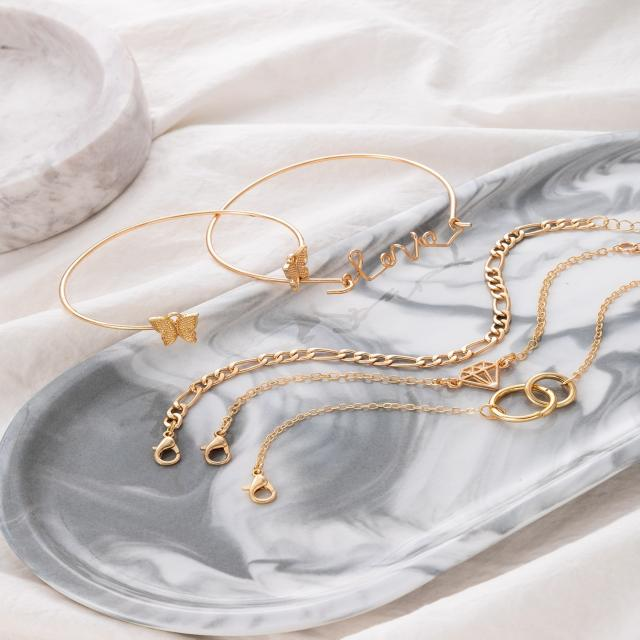bracelet: (16, 65, 640, 559)
